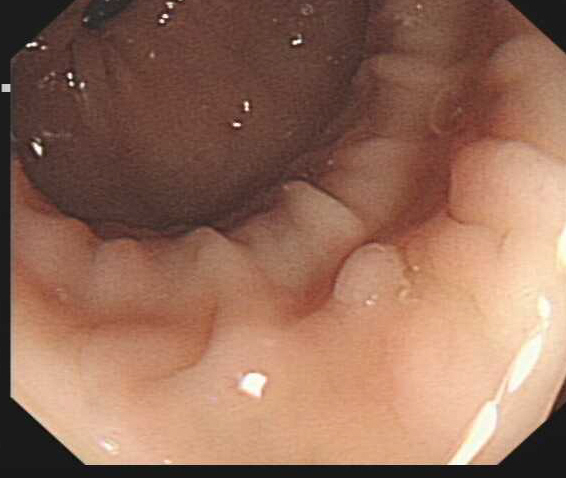others: (327, 239, 411, 310)
